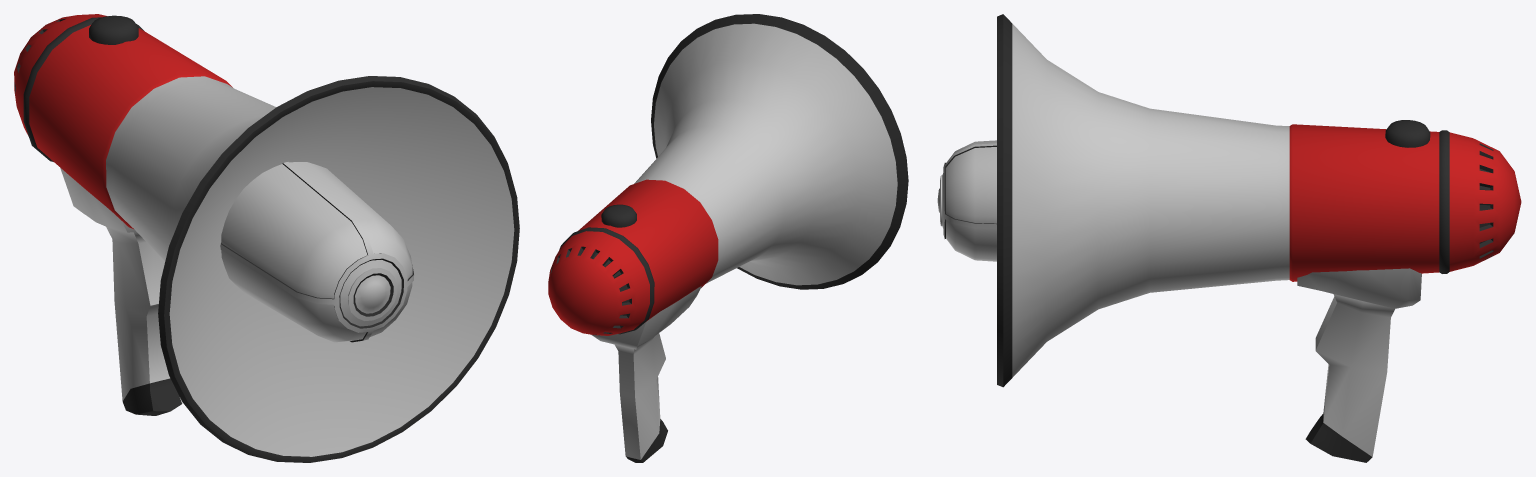
The model's file is B_Daily_R_Vr_N_Unknow_0002.fbx.
3 views of the same model, side by side, from view 1: azimuth 30°, elevation 25°; view 2: azimuth 150°, elevation 25°; view 3: azimuth 270°, elevation 25° (orthographic). The views are drawn at different scales.
Visible parts, largest first — view 1: B_Megaphone_0_002; view 2: B_Megaphone_0_002; view 3: B_Megaphone_0_002.
Boxes of the visible parts, left/top/right/bottom form: B_Megaphone_0_002: left=14, top=14, right=519, bottom=462; B_Megaphone_0_002: left=548, top=14, right=908, bottom=462; B_Megaphone_0_002: left=937, top=14, right=1521, bottom=462.
Bounding box in the file's own units: 8.06 × 10.2 × 12.55.
